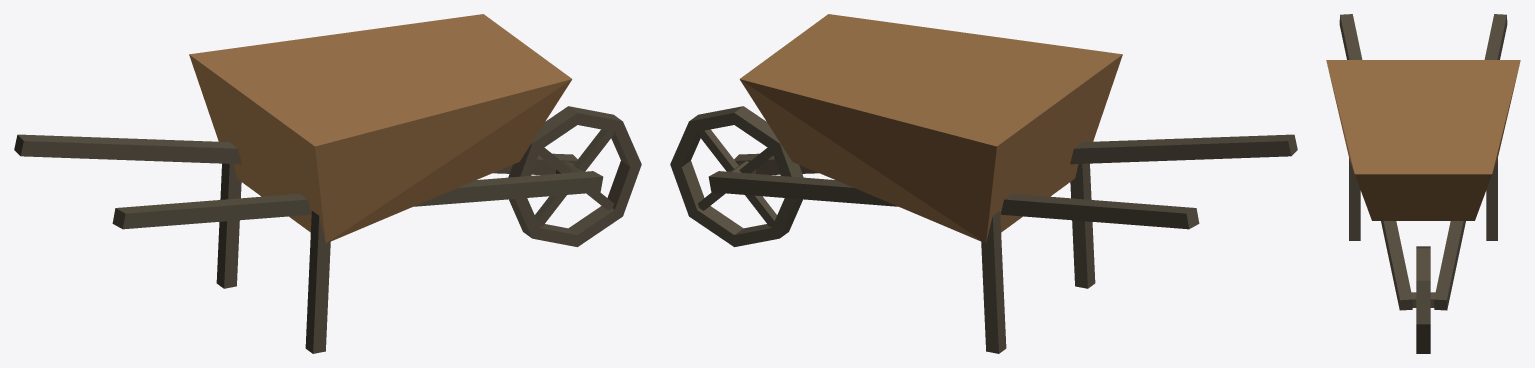
Rendered from Wheelbarrow.fbx.
3 renders of one model, left to right at view 1: azimuth 30°, elevation 25°; view 2: azimuth 150°, elevation 25°; view 3: azimuth 270°, elevation 25°, orthographic. The views are drawn at different scales.
Visible parts, largest first — view 1: Wheelbarrow; view 2: Wheelbarrow; view 3: Wheelbarrow.
Boxes of the visible parts, box(x1,y1,x2,y2) form: Wheelbarrow: box(14, 14, 641, 353); Wheelbarrow: box(670, 14, 1297, 353); Wheelbarrow: box(1326, 14, 1520, 353).
Size of the model in its own units: 1.78 by 0.661 by 0.68.
